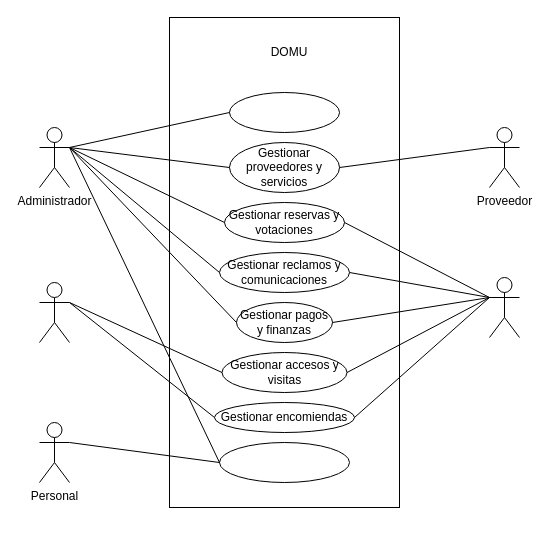
Image size: 549x536. Some labels were removed from this diagram. Each missing label, with the centre of its shape:
Administrar comunidad: the point at 284,112
Conserje: the point at 54,312
Gestionar tareas operativas: the point at 284,462
Residente: the point at 504,307
